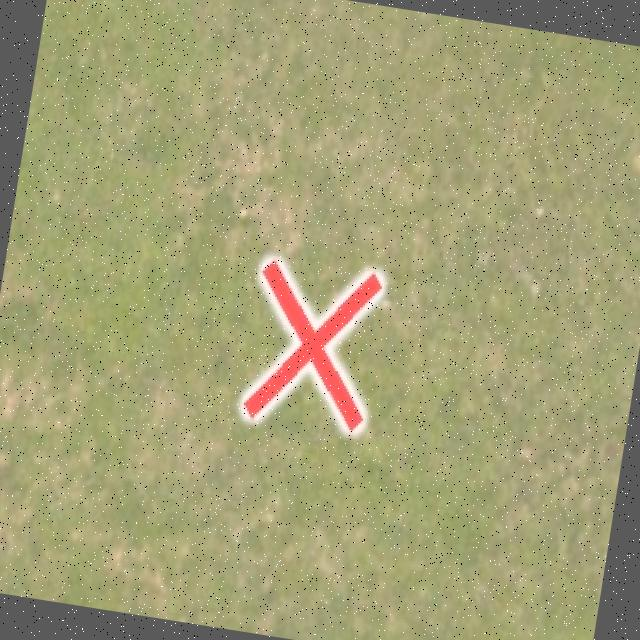x_marker: (239, 256, 385, 433)
